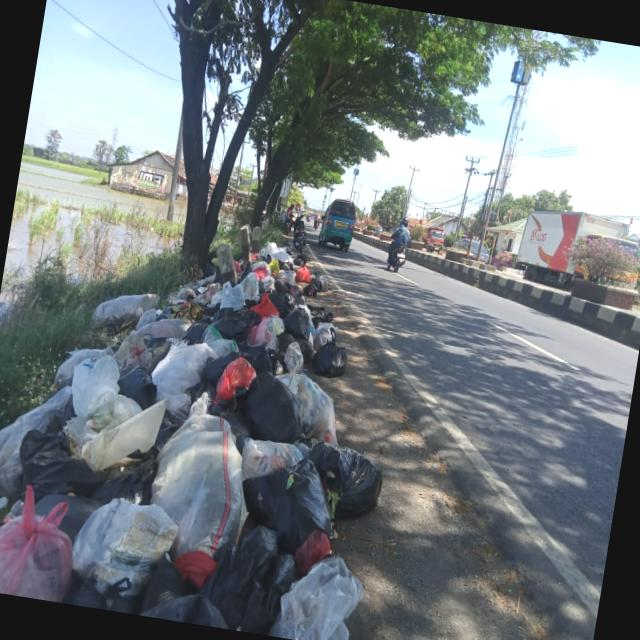garbage: (0, 198, 360, 640)
